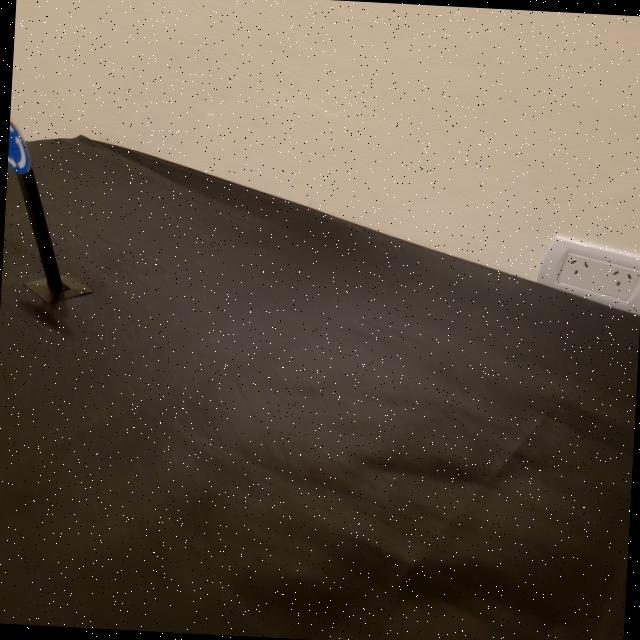round_about: (7, 120, 34, 178)
